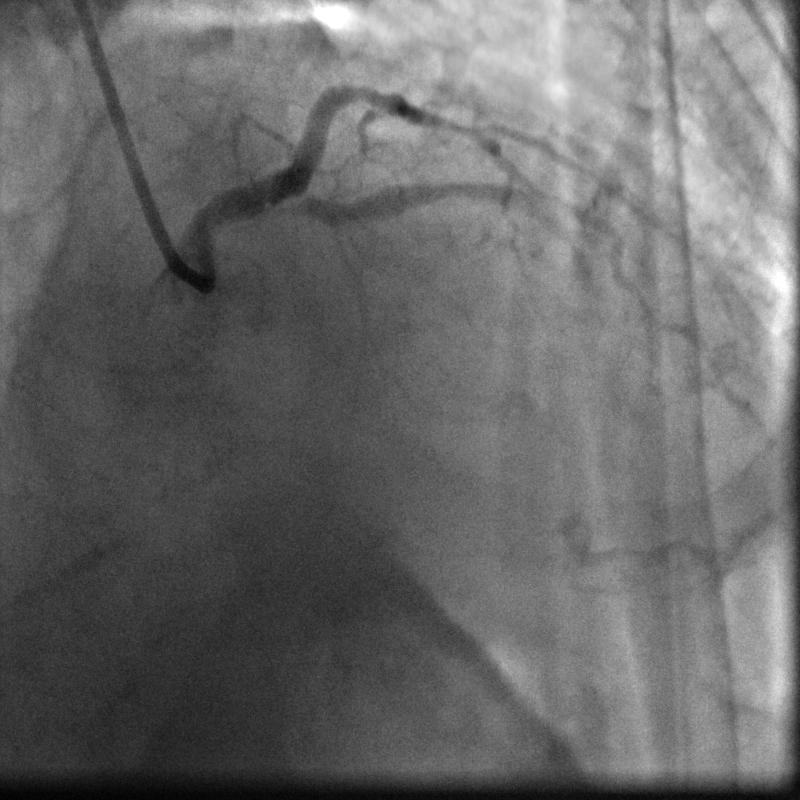Stenosis: (287, 192, 321, 219)
